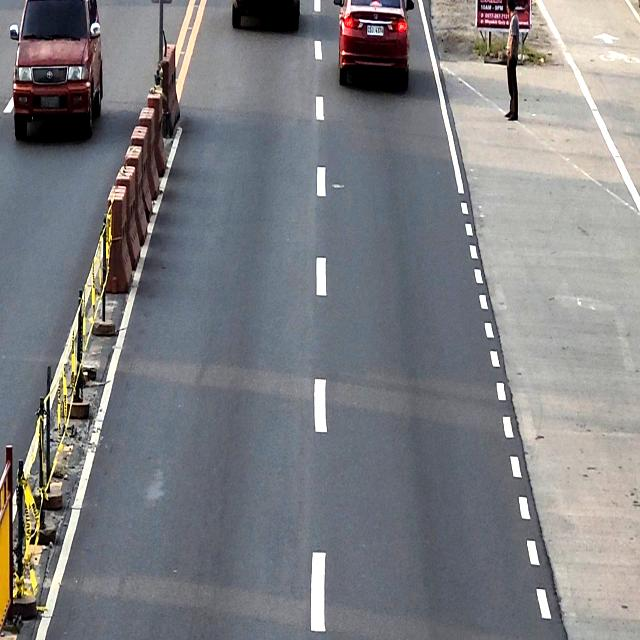Car: (10, 0, 103, 143), (334, 0, 415, 95)
License-Plate: (40, 97, 59, 109), (367, 25, 384, 37)
